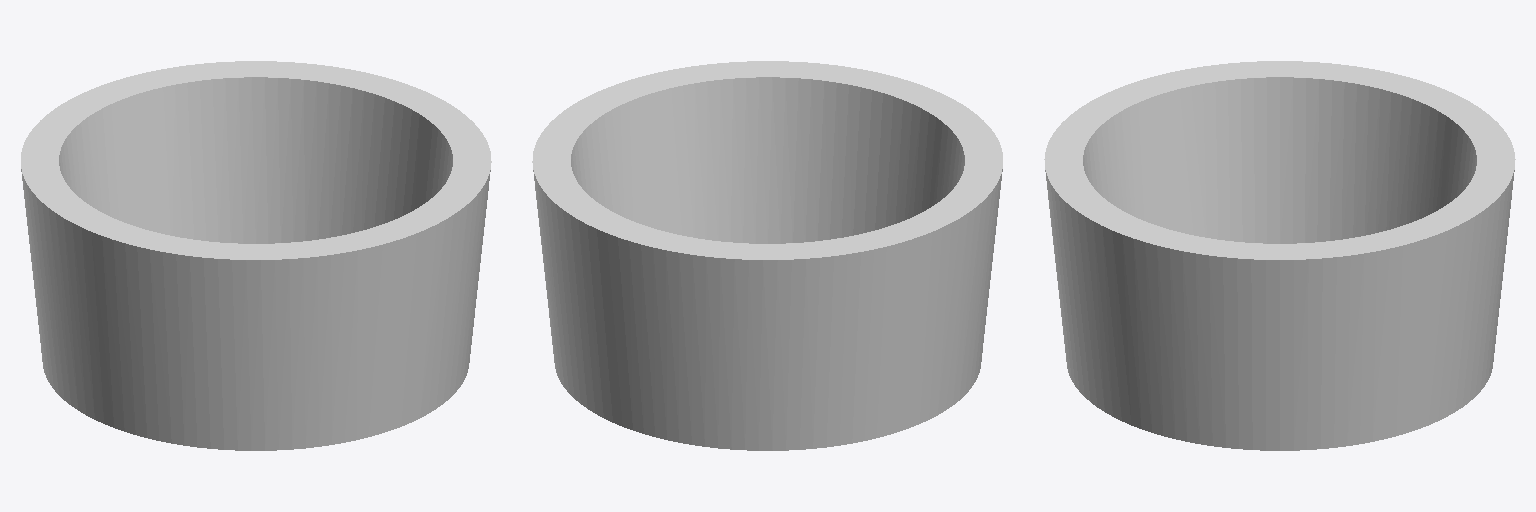
robot.urdf — paper_cup:
<?xml version="1.0"?>
<robot name="paper_cup">
  <link name="base_link">
    <!-- 慣性プロパティ (50g) -->
    <inertial>
      <origin xyz="0 0 0.015" rpy="0 0 0"/>
      <mass value="0.05"/>
      <inertia ixx="0.000018" ixy="0.0" ixz="0.0" iyy="0.000018" iyz="0.0" izz="0.000029"/>
    </inertial>
    
    <!-- 視覚メッシュ (実機の形状) -->
    <visual>
      <origin xyz="0 0 0.002" rpy="0 0 0"/>
      <geometry>
        <mesh filename="papercup2.stl" scale="0.001 0.001 0.001"/>
      </geometry>
      <material name="white">
        <color rgba="0.9 0.9 0.9 1"/>
      </material>
    </visual>
    
    <!-- 衝突メッシュ1: 底面 (角を少し削るために小さく) -->
    <collision>
      <origin xyz="0 0 0.001" rpy="0 0 0"/>
      <geometry>
        <box size="0.045 0.045 0.002"/>
      </geometry>
    </collision>

    <!-- ========================================== -->
    <!-- 8枚の壁で円柱を近似（厚さ2mm、幅25mm、高さ30mm） -->
    <!-- ========================================== -->
    <!-- 1: +X (0度) -->
    <collision>
      <origin xyz="0.0285 0 0.015" rpy="0 0 0"/>
      <geometry><box size="0.002 0.025 0.030"/></geometry>
    </collision>
    <!-- 2: +X+Y (45度) -->
    <collision>
      <origin xyz="0.0201 0.0201 0.015" rpy="0 0 0.7854"/>
      <geometry><box size="0.002 0.025 0.030"/></geometry>
    </collision>
    <!-- 3: +Y (90度) -->
    <collision>
      <origin xyz="0 0.0285 0.015" rpy="0 0 1.5708"/>
      <geometry><box size="0.002 0.025 0.030"/></geometry>
    </collision>
    <!-- 4: -X+Y (135度) -->
    <collision>
      <origin xyz="-0.0201 0.0201 0.015" rpy="0 0 2.3562"/>
      <geometry><box size="0.002 0.025 0.030"/></geometry>
    </collision>
    <!-- 5: -X (180度) -->
    <collision>
      <origin xyz="-0.0285 0 0.015" rpy="0 0 0"/>
      <geometry><box size="0.002 0.025 0.030"/></geometry>
    </collision>
    <!-- 6: -X-Y (225度) -->
    <collision>
      <origin xyz="-0.0201 -0.0201 0.015" rpy="0 0 0.7854"/>
      <geometry><box size="0.002 0.025 0.030"/></geometry>
    </collision>
    <!-- 7: -Y (270度) -->
    <collision>
      <origin xyz="0 -0.0285 0.015" rpy="0 0 1.5708"/>
      <geometry><box size="0.002 0.025 0.030"/></geometry>
    </collision>
    <!-- 8: +X-Y (315度) -->
    <collision>
      <origin xyz="0.0201 -0.0201 0.015" rpy="0 0 2.3562"/>
      <geometry><box size="0.002 0.025 0.030"/></geometry>
    </collision>
  </link>
</robot>

--- What the picture shows (computed from the rendered views, not written in the file) ---
The picture shows the robot from 3 angles, left to right: view 1: azimuth 30°, elevation 25°; view 2: azimuth 150°, elevation 25°; view 3: azimuth 270°, elevation 25°; orthographic projection.
Robot: paper_cup — 1 links, 0 joints (none); root link base_link; default pose: every joint at zero.
Visible links, largest first — view 1: base_link; view 2: base_link; view 3: base_link.
Boxes of the visible links, x1,y1,x2,y2 form: base_link: [21, 61, 491, 450]; base_link: [532, 61, 1002, 450]; base_link: [1044, 61, 1515, 450].
Bounding box of the posed robot: 0.064 × 0.064 × 0.03 m (x, y, z).
1 mesh visuals loaded from 1 distinct referenced files (1 binary STL).
